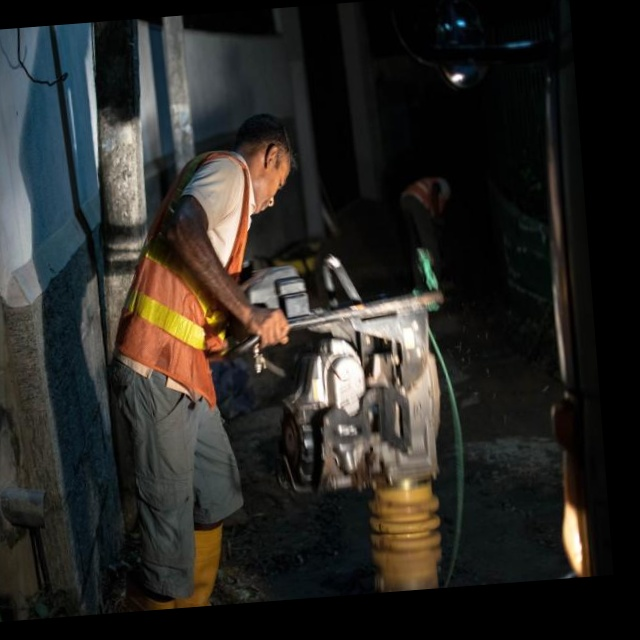Sin_Casco_Mascarrilla: (245, 115, 299, 210)
